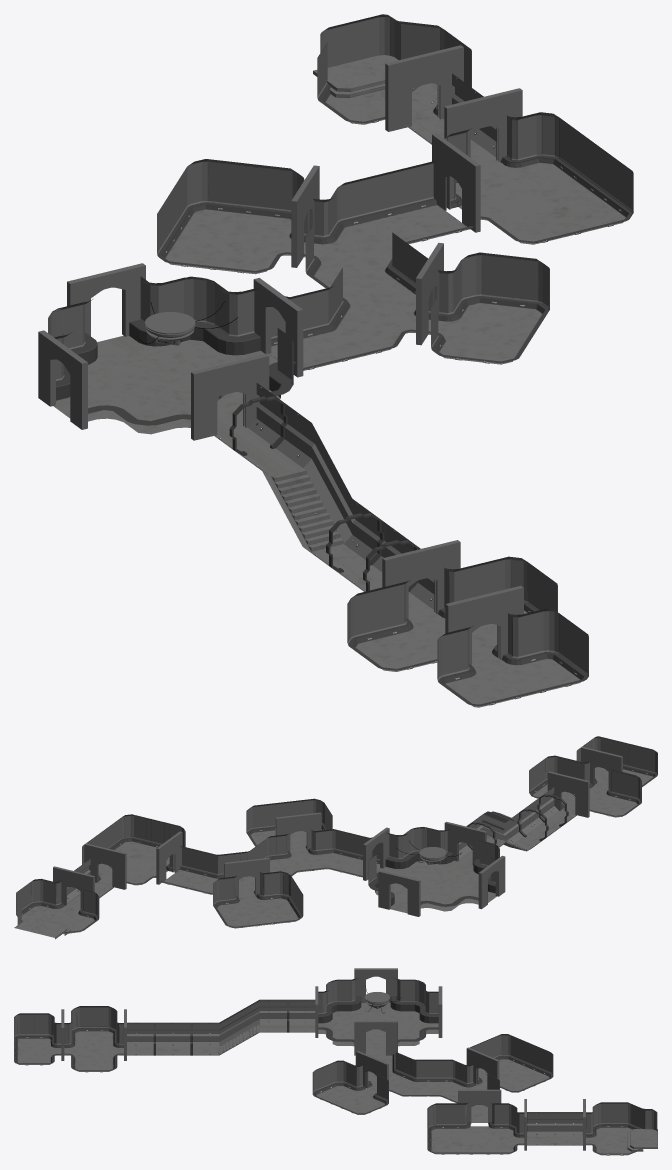
The model's file is Luna Moth.gltf.
3 renders of one model, top to bottom at view 1: azimuth 30°, elevation 25°; view 2: azimuth 150°, elevation 25°; view 3: azimuth 270°, elevation 25°, orthographic. The views are drawn at different scales.
Parts seen in each view (by area): view 1: Plane, Plane.003, Plane.007, Hub -col, HP Small Half Corner 1.002 -col, Plane.004, Tunnel -col, HP Small Half Corner 1.006 -col, HP Small Half Corner 1.007 -col, Antichamber -col, HP Small Half Corner 1.003 -col, AirlockRoom -col (+15 smaller); view 2: Plane, HP Small Half Corner 1.002 -col, Plane.003, Plane.007, Hub -col, Plane.004, Antichamber -col, HP Small Half Corner 1.007 -col, Tunnel -col, HP Small Half Corner 1.006 -col, HP Small Wall.081 -col, HP Small Half Corner 1.003 -col (+14 smaller); view 3: Tunnel -col, Plane.003, Plane, Plane.004, Plane.007, Hub -col, HP Small Half Corner 1.007 -col, HP Small Half Corner 1.002 -col, HP Small Half Corner 1.006 -col, HP Small Wall.081 -col, Antichamber -col, HP Small Half Corner 1.003 -col (+9 smaller).
Part boxes in pixels (x1=…): Plane: x1=165, y1=205, x2=542, y2=370; Plane.003: x1=313, y1=55, x2=625, y2=244; Plane.007: x1=53, y1=335, x2=302, y2=475; Hub -col: x1=48, y1=276, x2=295, y2=425; HP Small Half Corner 1.002 -col: x1=271, y1=160, x2=473, y2=369; Plane.004: x1=312, y1=544, x2=580, y2=707; Tunnel -col: x1=206, y1=383, x2=434, y2=609; HP Small Half Corner 1.006 -col: x1=157, y1=159, x2=306, y2=273; HP Small Half Corner 1.007 -col: x1=444, y1=112, x2=633, y2=243; Antichamber -col: x1=347, y1=556, x2=557, y2=670; HP Small Half Corner 1.003 -col: x1=427, y1=252, x2=549, y2=363; AirlockRoom -col: x1=437, y1=608, x2=588, y2=706; Plane: x1=162, y1=829, x2=381, y2=928; HP Small Half Corner 1.002 -col: x1=160, y1=829, x2=379, y2=893; Plane.003: x1=14, y1=841, x2=169, y2=939; Plane.007: x1=375, y1=838, x2=504, y2=913; Hub -col: x1=367, y1=827, x2=499, y2=906; Plane.004: x1=514, y1=767, x2=653, y2=850; Antichamber -col: x1=529, y1=755, x2=641, y2=816; HP Small Half Corner 1.007 -col: x1=82, y1=814, x2=185, y2=884; Tunnel -col: x1=459, y1=787, x2=579, y2=858; HP Small Half Corner 1.006 -col: x1=213, y1=871, x2=303, y2=927; HP Small Wall.081 -col: x1=16, y1=878, x2=99, y2=933; HP Small Half Corner 1.003 -col: x1=246, y1=798, x2=332, y2=848; Tunnel -col: x1=127, y1=999, x2=315, y2=1054; Plane.003: x1=431, y1=1126, x2=657, y2=1155; Plane: x1=316, y1=1055, x2=549, y2=1122; Plane.004: x1=17, y1=1031, x2=219, y2=1071; Plane.007: x1=260, y1=1003, x2=438, y2=1054; Hub -col: x1=318, y1=978, x2=438, y2=1042; HP Small Half Corner 1.007 -col: x1=427, y1=1103, x2=524, y2=1154; HP Small Half Corner 1.002 -col: x1=355, y1=1051, x2=499, y2=1103; HP Small Half Corner 1.006 -col: x1=470, y1=1034, x2=553, y2=1091; HP Small Wall.081 -col: x1=586, y1=1102, x2=657, y2=1155; Antichamber -col: x1=64, y1=1006, x2=123, y2=1072; HP Small Half Corner 1.003 -col: x1=312, y1=1060, x2=388, y2=1114.
Bounding box in the file's own units: 50.24 × 8.49 × 88.07.
